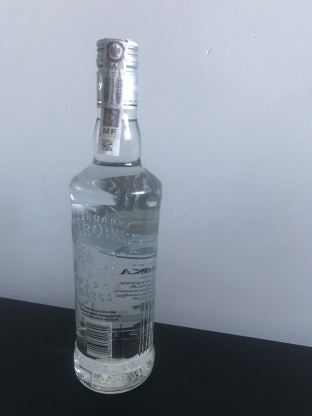nakretka: (94, 33, 140, 114)
